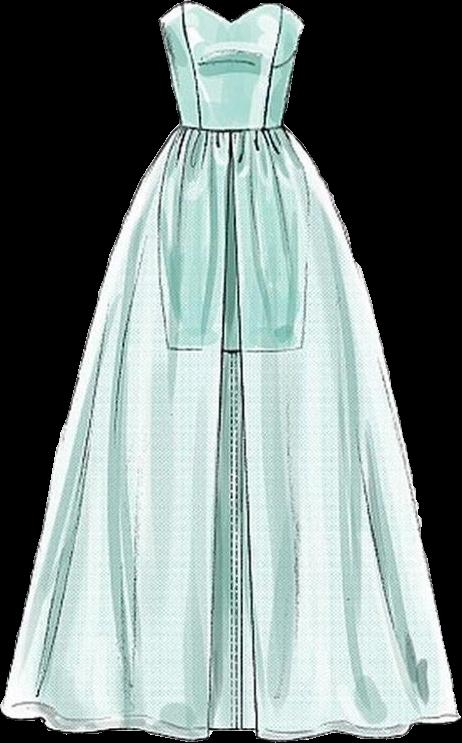Bodice: (158, 1, 304, 134)
Hemline: (0, 704, 461, 742)
Neckline: (157, 0, 306, 28)
Skirt: (1, 124, 459, 740)
Waistline: (174, 120, 288, 142)
